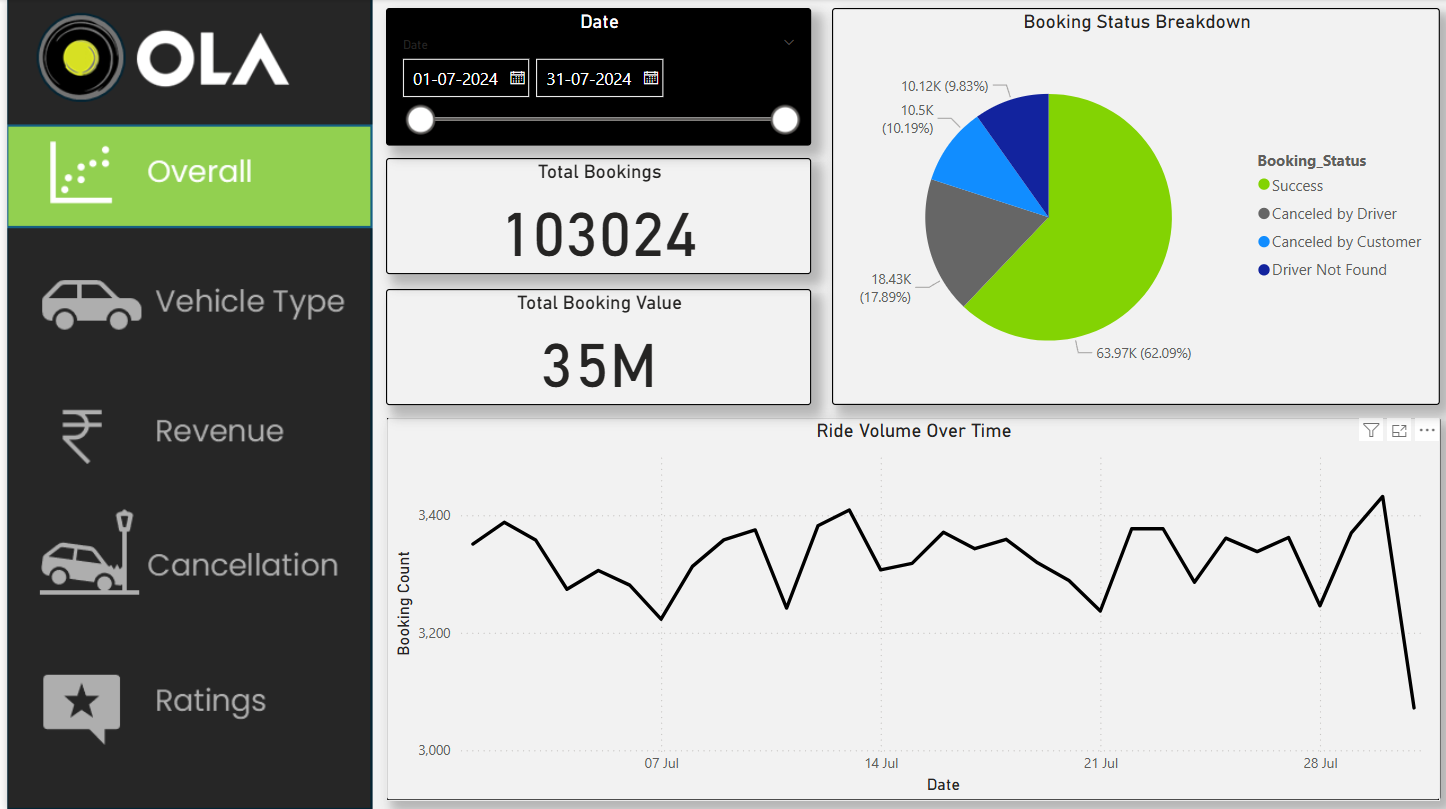

What the dashboard file says about the page in this screenshot:
{"tool":"powerbi","page":{"name":"Overall","canvas":[1280,720],"ordinal":0},"visuals":[{"type":"actionButton","box":[6.2,210.1,313.9,80.7],"z":0},{"type":"actionButton","box":[6.2,329.9,313.9,80.7],"z":1000},{"type":"actionButton","box":[6.2,453.1,313.9,80.7],"z":2000},{"type":"actionButton","box":[6.2,587,313.9,80.7],"z":3000},{"type":"lineChart","title":"Ride Volume Over Time","fields":{"Y":["CountNonNull(bookings.Booking_ID)"],"Category":["bookings.Date"]},"box":[336.1,370.6,934.6,340.5],"z":4000},{"type":"pieChart","title":"Booking Status Breakdown","fields":{"Category":["bookings.Booking_Status"],"Y":["CountNonNull(bookings.Booking_Status)"]},"box":[731.5,8,539.1,352],"z":5000},{"type":"slicer","title":"Date","fields":{"Values":["bookings.Date"]},"box":[336.1,8,376.8,122.4],"z":6000},{"type":"card","title":"Total Bookings","fields":{"Values":["Count(bookings.Booking_ID)"]},"box":[336.1,141,376.8,102.9],"z":7000},{"type":"card","title":"Total Booking Value","fields":{"Values":["Sum(bookings.Booking_Value)"]},"box":[336.1,257.1,376.8,102.9],"z":8000}]}

Visuals, with their boxes in screenshot pixels (x1, y1, x2, y2), scaled from the page's 1280x720 canvas onto the 1446x809 screenshot:
actionButton: box(7, 236, 362, 327)
actionButton: box(7, 371, 362, 461)
actionButton: box(7, 509, 362, 600)
actionButton: box(7, 660, 362, 750)
"Ride Volume Over Time" lineChart: box(380, 416, 1435, 799)
"Booking Status Breakdown" pieChart: box(826, 9, 1435, 404)
"Date" slicer: box(380, 9, 805, 147)
"Total Bookings" card: box(380, 158, 805, 274)
"Total Booking Value" card: box(380, 289, 805, 404)
